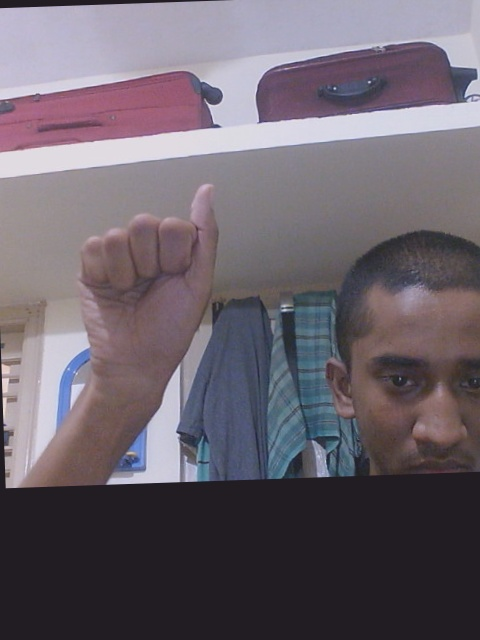hand: (69, 179, 226, 404)
